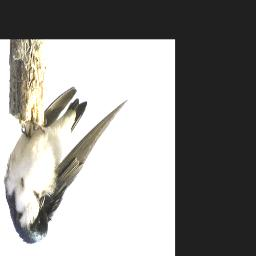Swallow: (2, 85, 128, 246)
